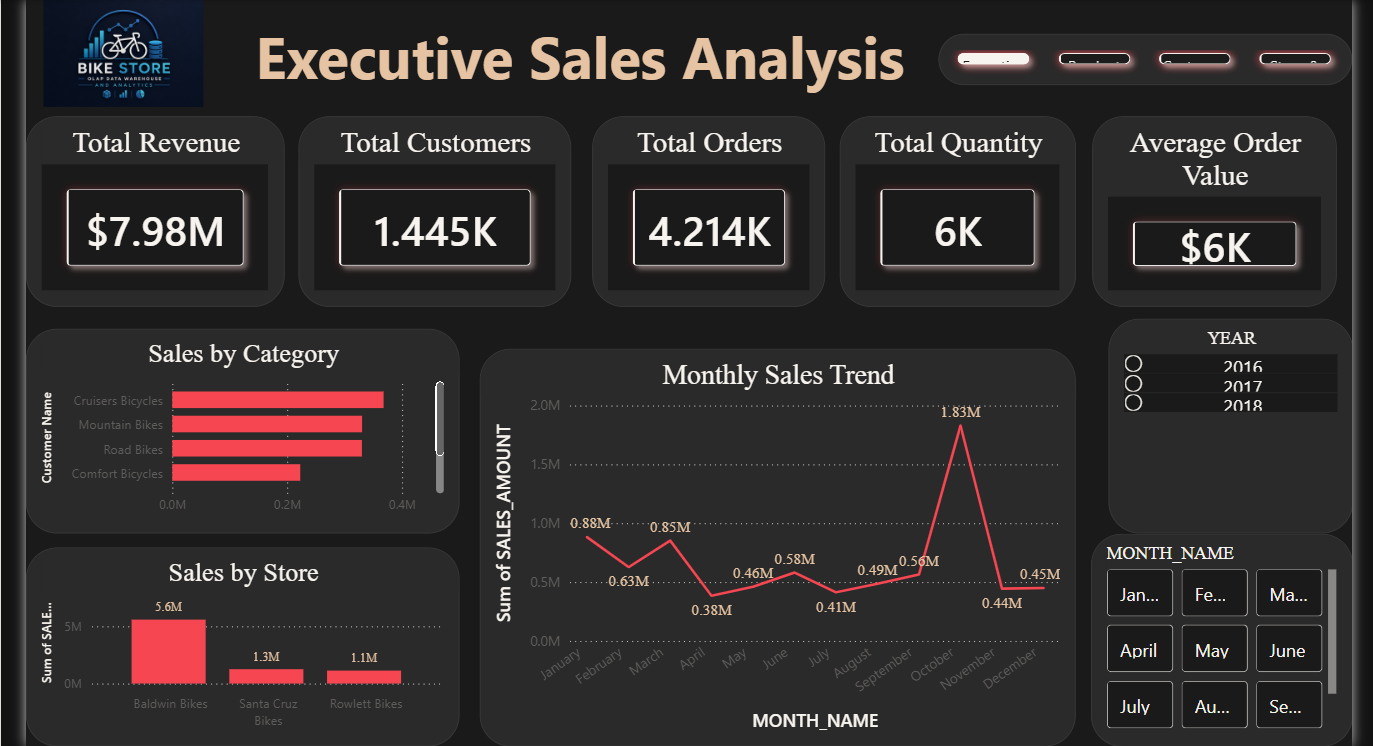

The dashboard page shown, as its layout file describes it:
{"tool":"powerbi","page":{"name":"Executive Sales ","canvas":[1280,720],"ordinal":0},"visuals":[{"type":"image","box":[0,0,188,102.9],"z":0},{"type":"cardVisual","title":"Total Revenue","fields":{"Data":["Sum(fact_sales.SALES_AMOUNT)"]},"box":[0,112.5,249.7,183.9],"z":1000},{"type":"cardVisual","title":"Total Customers","fields":{"Data":["CountNonNull(dim_customers.CUSTOMER_ID)"]},"box":[263.5,112.5,263.5,183.9],"z":2000},{"type":"cardVisual","title":"Total Orders","fields":{"Data":["CountNonNull(fact_sales.ORDER_ID)"]},"box":[546.1,112.5,225,183.9],"z":3000},{"type":"cardVisual","title":"Total Quantity","fields":{"Data":["Sum(fact_sales.QUANTITY)"]},"box":[784.9,112.5,227.8,183.9],"z":4000},{"type":"lineChart","title":"Monthly Sales Trend","fields":{"Category":["dim_date.MONTH_NAME"],"Y":["Sum(fact_sales.SALES_AMOUNT)"]},"box":[437.7,336.2,575,384.2],"z":5000},{"type":"textbox","box":[188,11,693,91.9],"z":6000},{"type":"cardVisual","title":"Average Order Value","fields":{"Data":["fact_sales.Average Order Value"]},"box":[1029.2,112.5,236,183.9],"z":7000},{"type":"clusteredBarChart","title":"Sales by Category","fields":{"Category":["dim_products.CATEGORY_NAME"],"Y":["Sum(fact_sales.SALES_AMOUNT)"]},"box":[0,317,418.5,197.6],"z":8000},{"type":"clusteredColumnChart","title":"Sales by Store","fields":{"Category":["dim_stores.STORE_NAME"],"Y":["Sum(fact_sales.SALES_AMOUNT)"]},"box":[0,528.3,418.5,192.1],"z":9000},{"type":"listSlicer","fields":{"Values":["dim_date.YEAR"]},"box":[1044.3,307.4,236,207.2],"z":10000},{"type":"advancedSlicerVisual","fields":{"Values":["dim_date.MONTH_NAME"]},"box":[1027.8,514.6,252.5,205.8],"z":11000},{"type":"pageNavigator","box":[881,32.9,399.3,49.4],"z":12000}]}

Visuals, with their boxes on the page's 1280x720 design canvas (x1, y1, x2, y2). These are canvas units, not pixel positions in the 1373x746 screenshot, which may show the page scaled, cropped or inside an application window:
image: crop(0, 0, 188, 103)
"Total Revenue" cardVisual: crop(0, 112, 250, 296)
"Total Customers" cardVisual: crop(264, 112, 527, 296)
"Total Orders" cardVisual: crop(546, 112, 771, 296)
"Total Quantity" cardVisual: crop(785, 112, 1013, 296)
"Monthly Sales Trend" lineChart: crop(438, 336, 1013, 720)
textbox: crop(188, 11, 881, 103)
"Average Order Value" cardVisual: crop(1029, 112, 1265, 296)
"Sales by Category" clusteredBarChart: crop(0, 317, 418, 515)
"Sales by Store" clusteredColumnChart: crop(0, 528, 418, 720)
listSlicer - dim_date.YEAR: crop(1044, 307, 1280, 515)
advancedSlicerVisual - dim_date.MONTH_NAME: crop(1028, 515, 1280, 720)
pageNavigator: crop(881, 33, 1280, 82)
